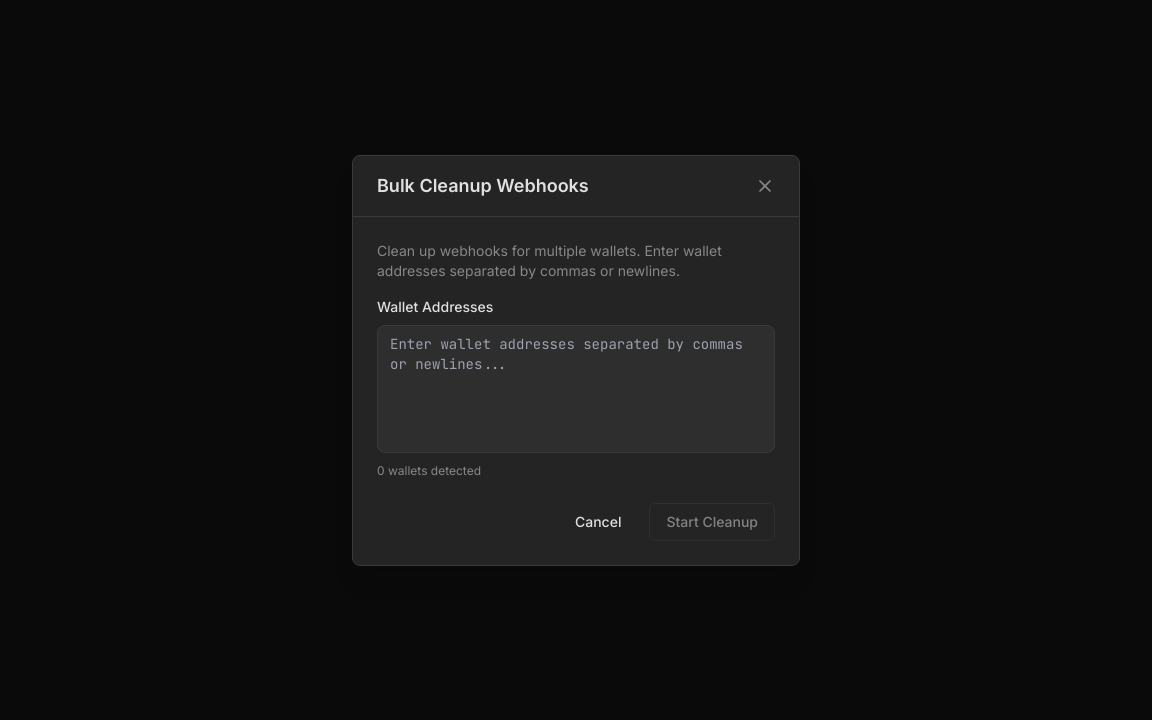
it: BulkOperationModal › cleans up webhooks with a full failure result
Expected: the heading "Bulk Cleanup Webhooks" is shown, [377,172,589,200]
Type "w1" into the text box labelled "Wallet Addresses".
click(576, 388); type("w1")  # box [377,324,775,452]
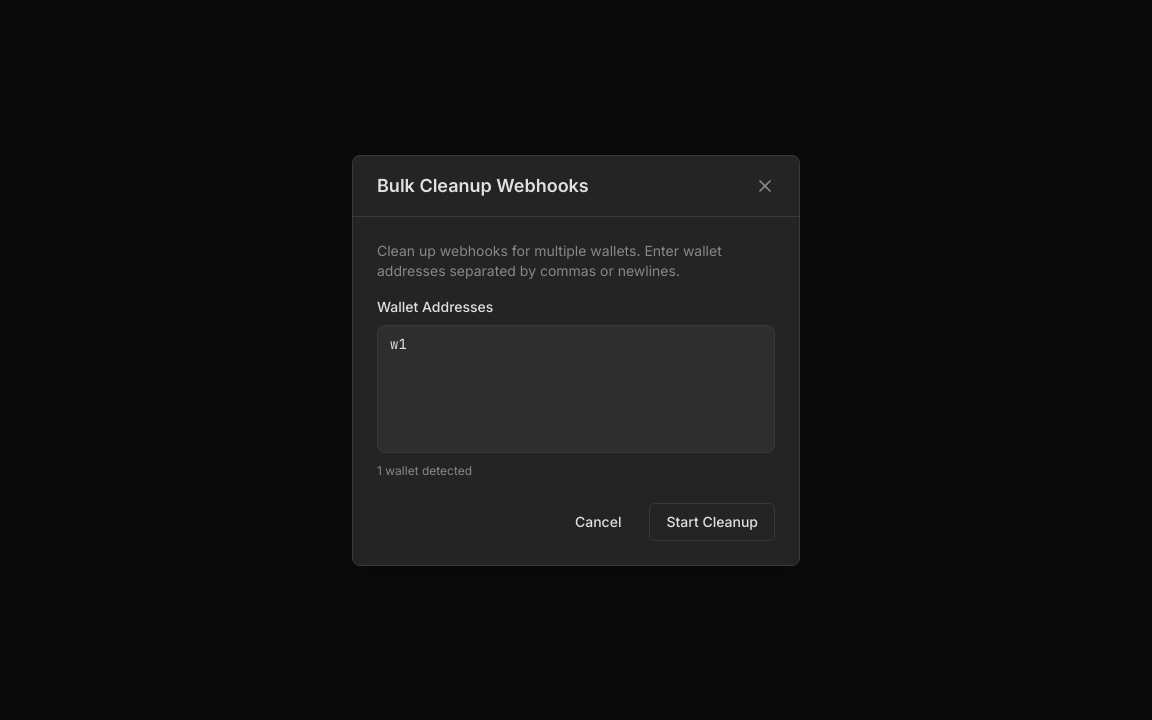
Click the button "Start Cleanup".
click(712, 522)  # box [649,502,775,540]
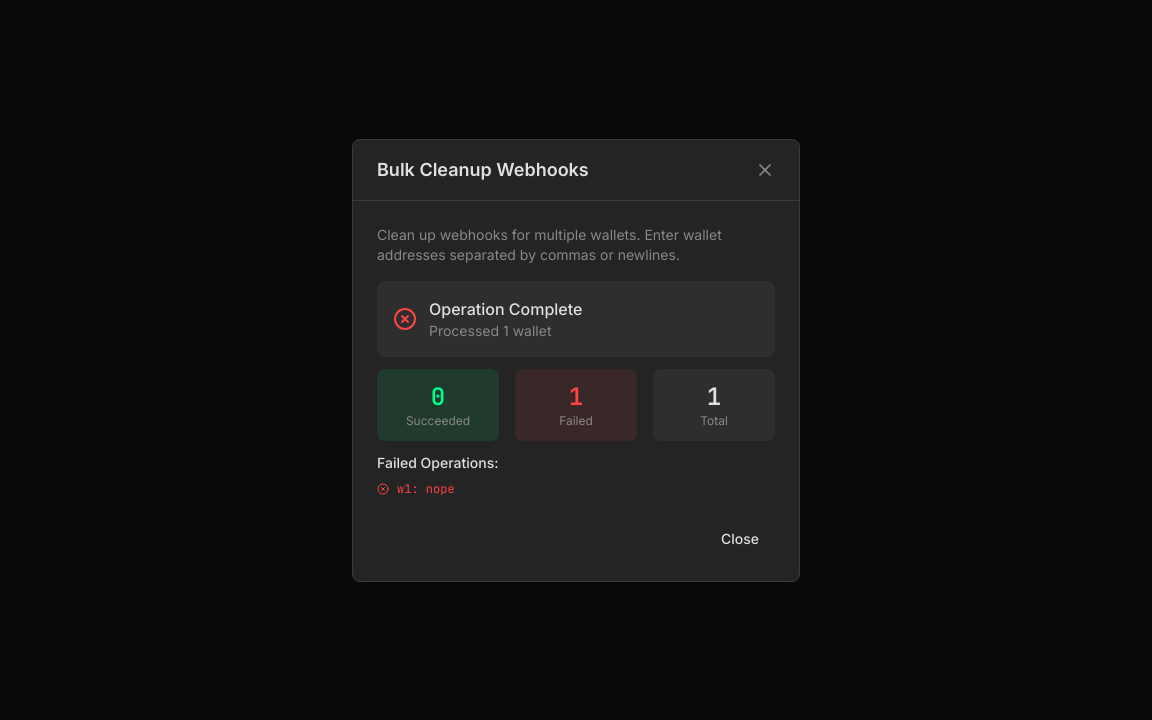
Expected: the text "w1: nope" is shown, [397,480,455,496]
